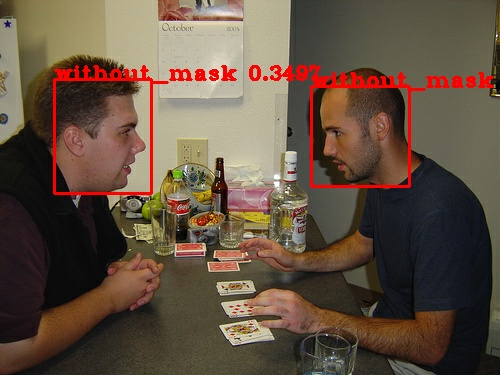without_mask: (50, 87, 145, 195), (319, 80, 399, 187)
